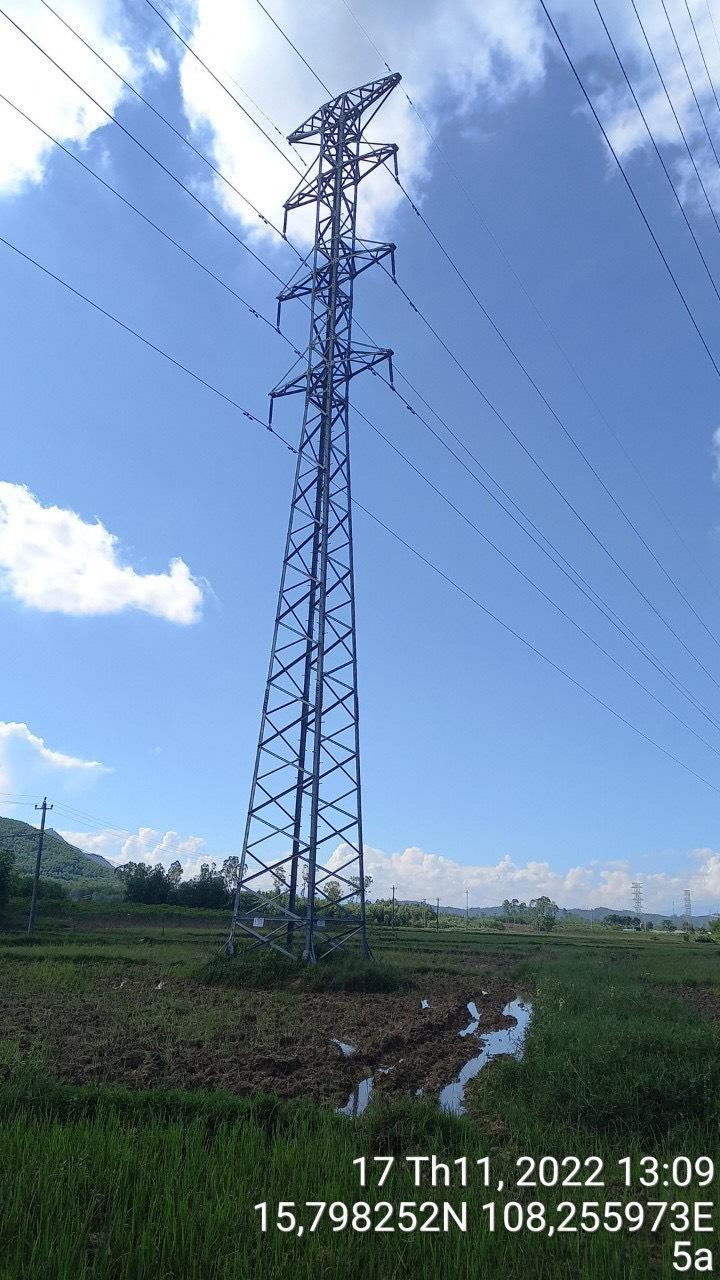power_tower: (262, 72, 374, 970)
